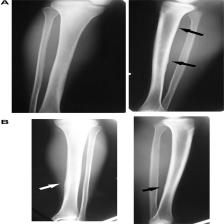hairline-fracture: (12, 0, 224, 224)
